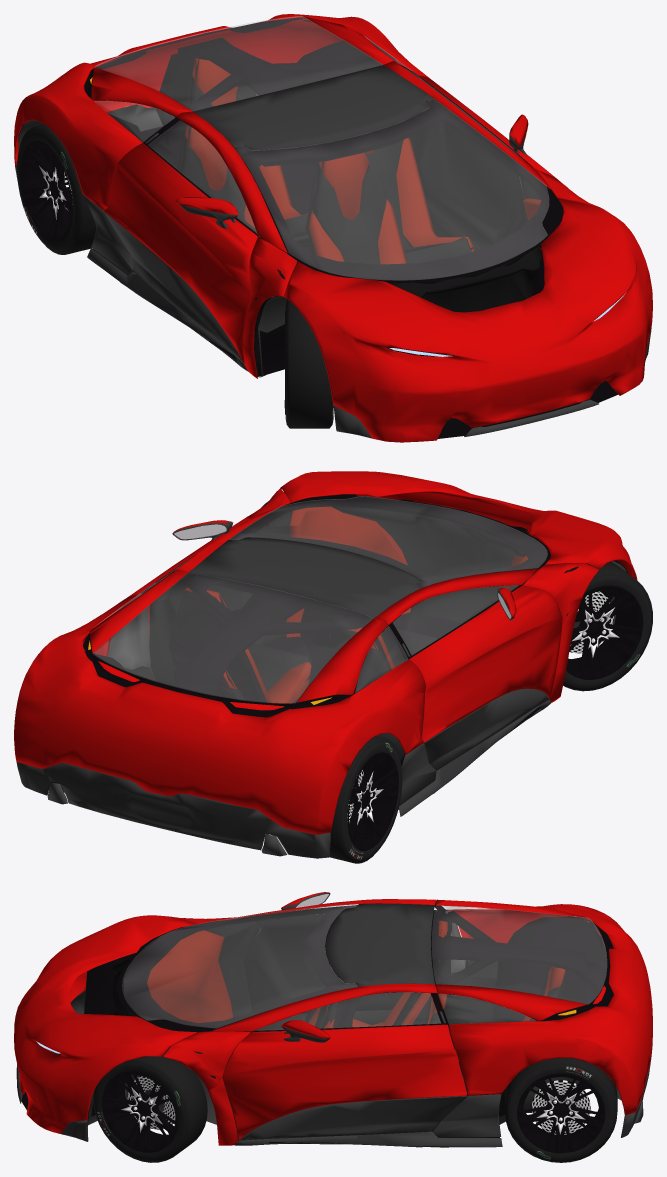
Rendered from hypergt.glb.
The picture shows the model from 3 angles, top to bottom: view 1: azimuth 30°, elevation 25°; view 2: azimuth 150°, elevation 25°; view 3: azimuth 270°, elevation 25°; orthographic projection. The views are drawn at different scales.
Parts seen in each view (by area): view 1: BodyHood, BodyWindshield, BodyRearPanelsColor1, BodyRearwindow, BodyDoorRColor1, BodyWindshieldGasket, BodyRoofPanel, InteriorSeatsColor1, InteriorDoorL01, InteriorSeatsColor2, BodyPillars, InteriorPillar (+14 smaller); view 2: BodyRearPanelsColor1, BodyRearwindow, BodyWindshield, BodyPanelsColor2, BodyDoorRColor1, BodyRoofPanel, BodyHood, InteriorPillar, InteriorDashMid, BodyPillars, BodyWindshieldGasket, InteriorSeatsFrame1 (+17 smaller); view 3: BodyRearPanelsColor1, BodyWindshield, BodyHood, BodyDoorLColor1, BodyRearwindow, BodyRoofPanel, InteriorFloor, BodyPillars, InteriorDoorR01, BodyWindshieldGasket, BodyPanelsColor2, BodyDoorLColor2 (+19 smaller).
Boxes of the visible parts, <box> form: BodyHood: <box>284,198,652,442</box>; BodyWindshield: <box>234,98,548,280</box>; BodyRearPanelsColor1: <box>14,14,430,210</box>; BodyRearwindow: <box>95,16,382,110</box>; BodyDoorRColor1: <box>104,143,257,363</box>; BodyWindshieldGasket: <box>234,99,563,283</box>; BodyRoofPanel: <box>193,65,432,150</box>; InteriorSeatsColor1: <box>185,58,474,264</box>; InteriorDoorL01: <box>408,78,527,248</box>; InteriorSeatsColor2: <box>179,77,471,264</box>; BodyPillars: <box>176,61,599,378</box>; InteriorPillar: <box>155,37,434,168</box>; BodyRearPanelsColor1: <box>14,569,425,834</box>; BodyRearwindow: <box>92,573,373,703</box>; BodyWindshield: <box>229,496,547,586</box>; BodyPanelsColor2: <box>15,699,550,858</box>; BodyDoorRColor1: <box>409,585,562,742</box>; BodyRoofPanel: <box>189,537,422,617</box>; BodyHood: <box>279,471,637,579</box>; InteriorPillar: <box>169,574,417,701</box>; InteriorDashMid: <box>331,499,528,622</box>; BodyPillars: <box>175,489,598,702</box>; BodyWindshieldGasket: <box>230,495,550,587</box>; InteriorSeatsFrame1: <box>169,591,383,712</box>; BodyRearPanelsColor1: <box>436,899,652,1115</box>; BodyWindshield: <box>122,904,357,1028</box>; BodyHood: <box>14,915,196,1133</box>; BodyDoorLColor1: <box>222,1024,467,1139</box>; BodyRearwindow: <box>431,905,606,1003</box>; BodyRoofPanel: <box>326,903,434,986</box>; InteriorFloor: <box>19,916,613,1138</box>; BodyPillars: <box>163,899,437,1145</box>; InteriorDoorR01: <box>244,910,465,1013</box>; BodyWindshieldGasket: <box>117,905,357,1032</box>; BodyPanelsColor2: <box>16,990,651,1147</box>; BodyDoorLColor2: <box>240,1096,467,1140</box>.
Bounding box in the file's own units: 2.54 × 1.15 × 4.36.
Materials: 18 (4 with a texture image).
